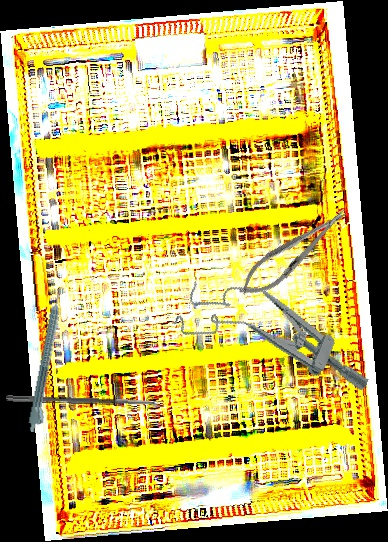Handpiece: (26, 288, 71, 434)
Needle Holder: (231, 199, 356, 307)
Speculum: (170, 263, 385, 405)
Surgical Spoon: (5, 395, 165, 408)
